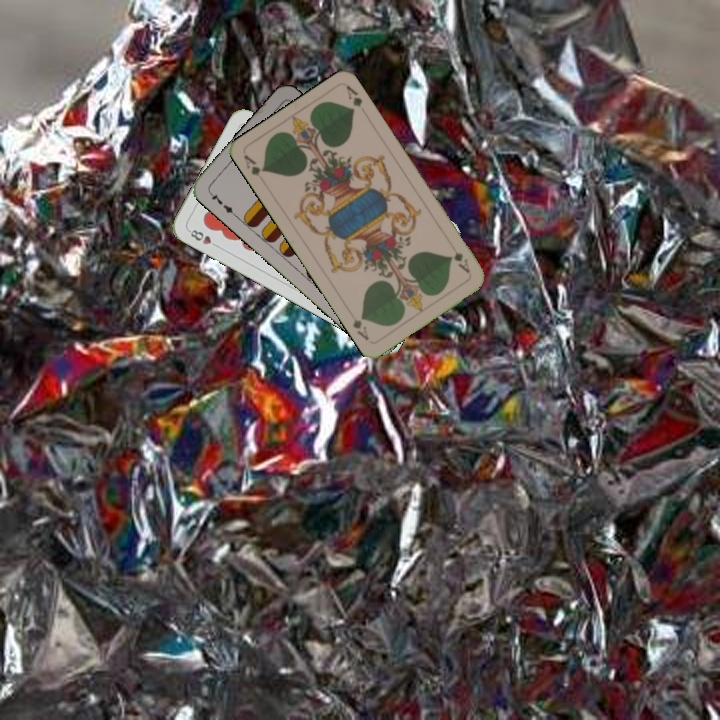E7: (205, 187, 238, 219)
GA: (447, 240, 472, 276), (240, 151, 268, 179)
H8: (184, 225, 222, 250)
